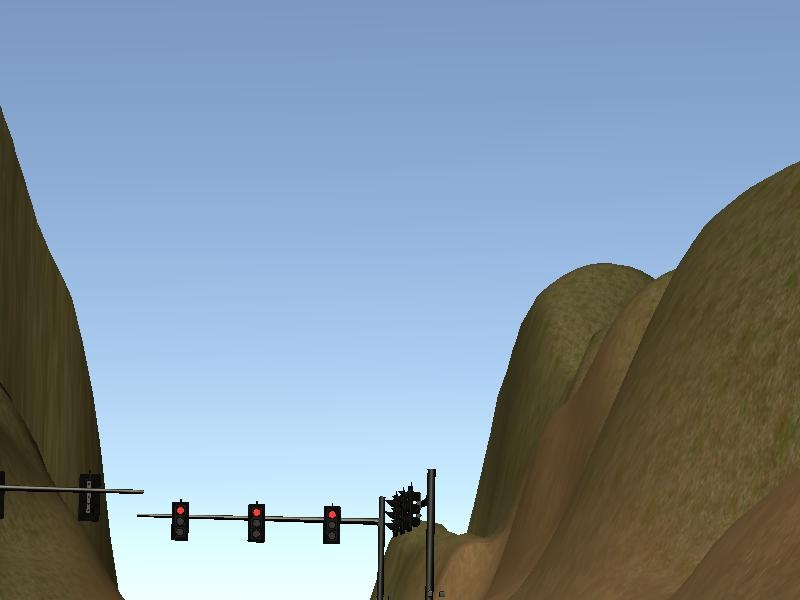red: (169, 502, 190, 541), (246, 505, 266, 544), (321, 508, 340, 544)
